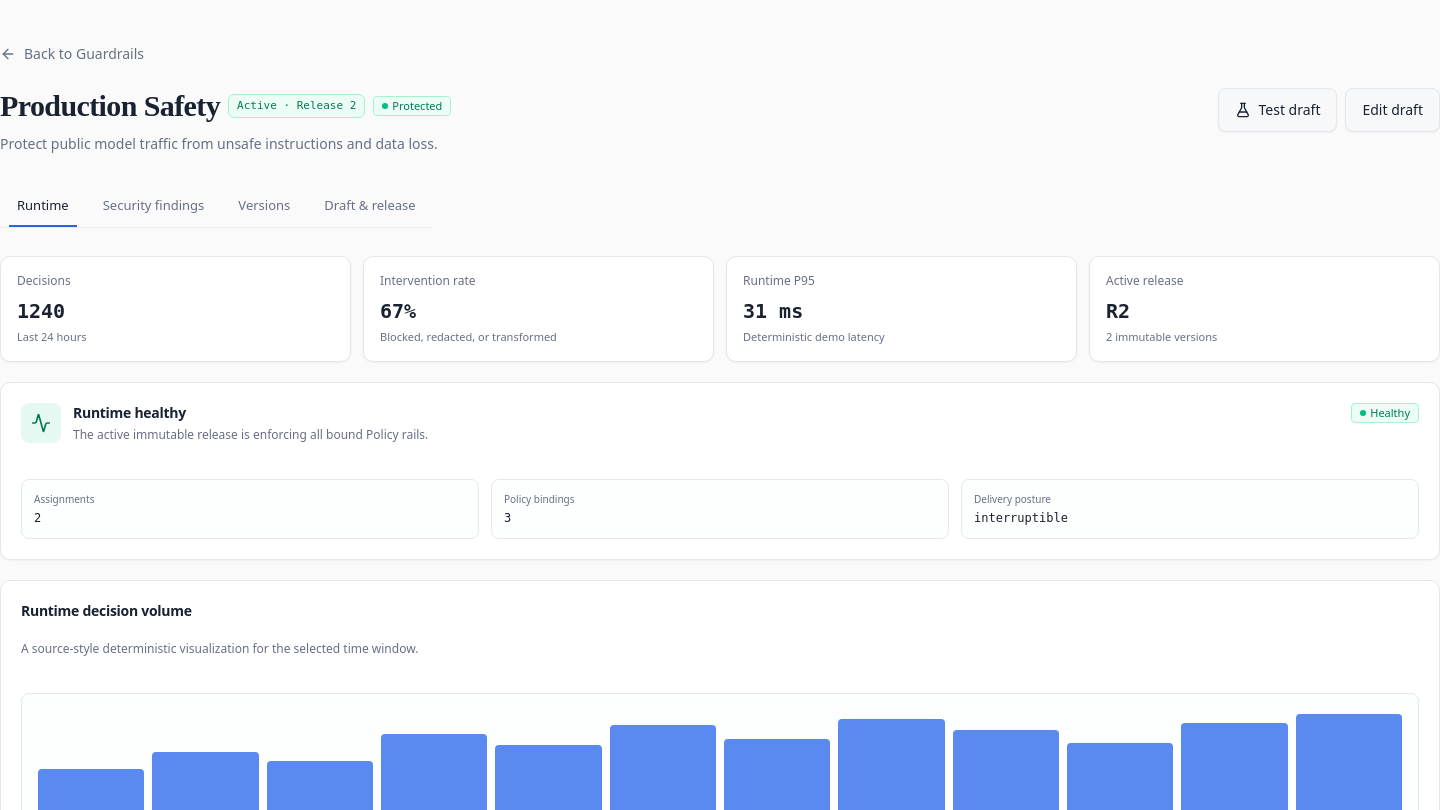
Test case: latest Guardrail source workflow › shows the immutable Policy name captured by a historical release
Click the tab "Versions".
click(264, 206)  # box [221, 184, 307, 228]
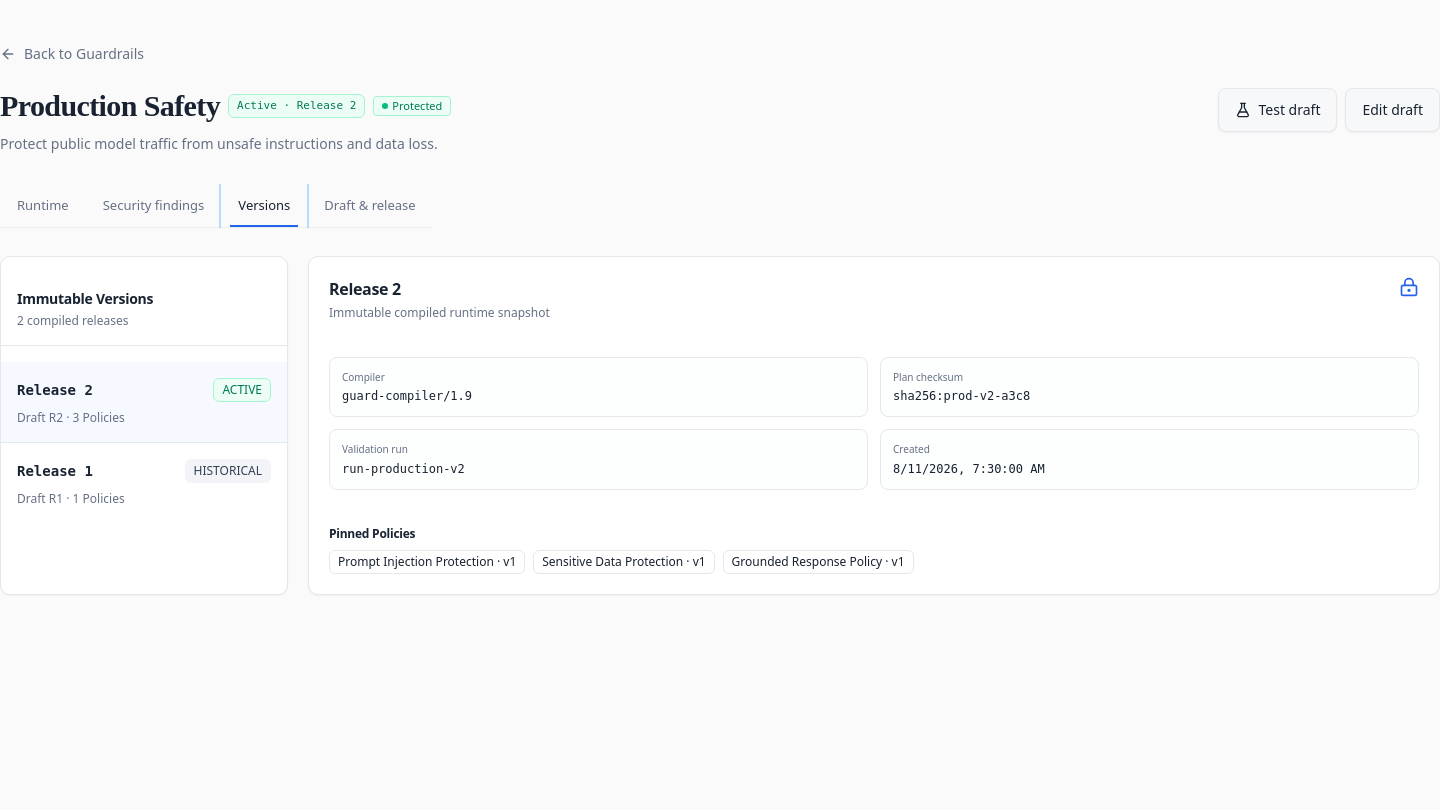
Now the text "Sensitive Data Protection · v1" is shown, box [533, 550, 715, 574]
